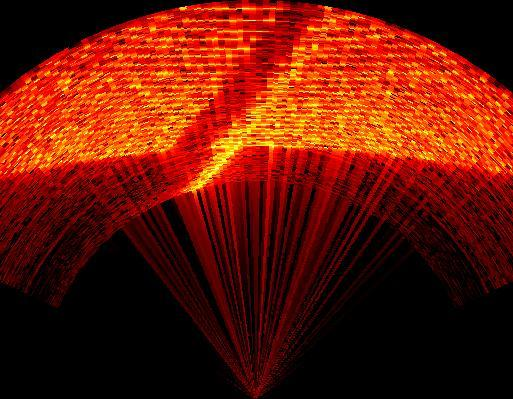pipe: (158, 7, 342, 196)
